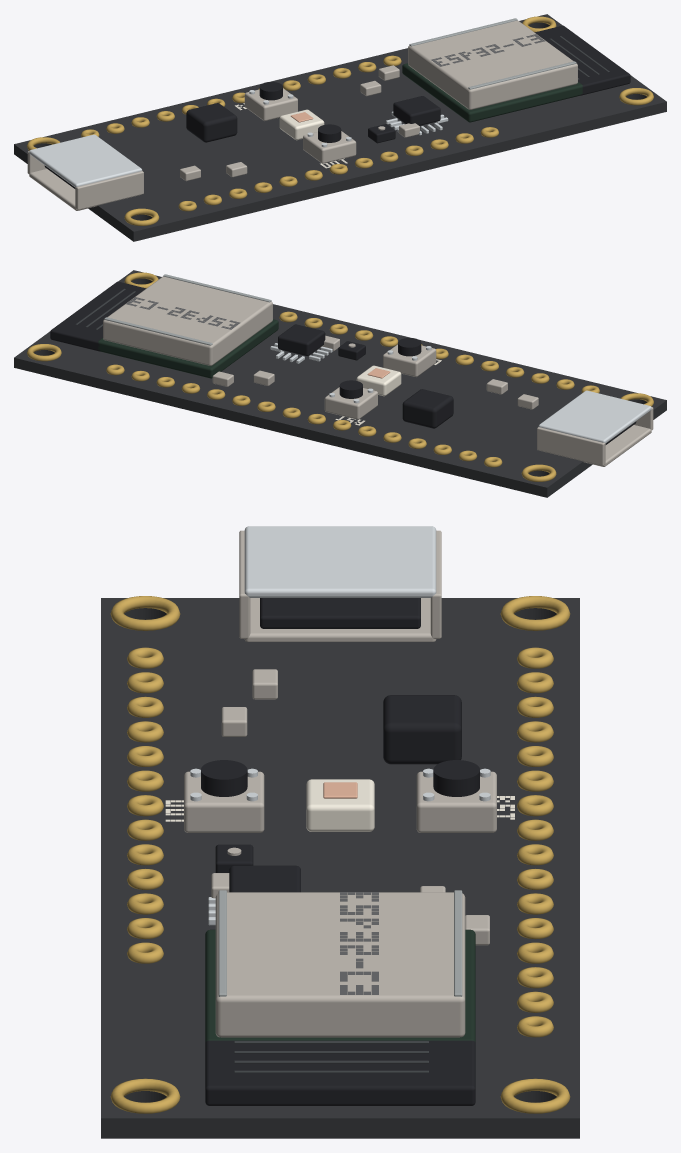
Rendered from boards-10.glb.
3 renders of one model, top to bottom at view 1: azimuth 30°, elevation 25°; view 2: azimuth 150°, elevation 25°; view 3: azimuth 270°, elevation 25°, orthographic. The views are drawn at different scales.
Visible parts, largest first — view 1: board, radio, usb, pads, antenna, regulator, boot, reset, imu, led, climate; view 2: board, radio, usb, pads, antenna, regulator, imu, reset, boot, led, climate; view 3: board, radio, usb, pads, antenna, boot, reset, regulator, led, imu, climate.
Boxes of the visible parts, x1,y1,x2,y2 form: board: [14, 14, 666, 241]; radio: [402, 18, 582, 122]; usb: [27, 134, 143, 210]; pads: [81, 55, 498, 211]; antenna: [534, 25, 630, 95]; regulator: [186, 103, 237, 142]; boot: [303, 124, 356, 163]; reset: [244, 82, 297, 120]; imu: [386, 96, 448, 135]; led: [279, 109, 324, 140]; climate: [368, 124, 395, 143]; board: [14, 270, 666, 497]; radio: [98, 274, 278, 378]; usb: [537, 390, 653, 466]; pads: [106, 311, 599, 467]; antenna: [50, 281, 146, 351]; regulator: [402, 389, 453, 428]; imu: [270, 324, 332, 363]; reset: [324, 380, 377, 419]; boot: [383, 338, 436, 376]; led: [356, 365, 401, 396]; climate: [338, 341, 365, 360]; board: [101, 596, 579, 1138]; radio: [205, 890, 475, 1041]; usb: [239, 526, 441, 641]; pads: [127, 647, 553, 1037]; antenna: [205, 1040, 475, 1105]; boot: [184, 760, 264, 832]; reset: [416, 760, 496, 832]; regulator: [383, 695, 461, 764]; led: [306, 779, 374, 831]; imu: [208, 865, 300, 925]; climate: [215, 844, 253, 872].
Size of the model in its own units: 3.74 by 0.275 by 1.4.
